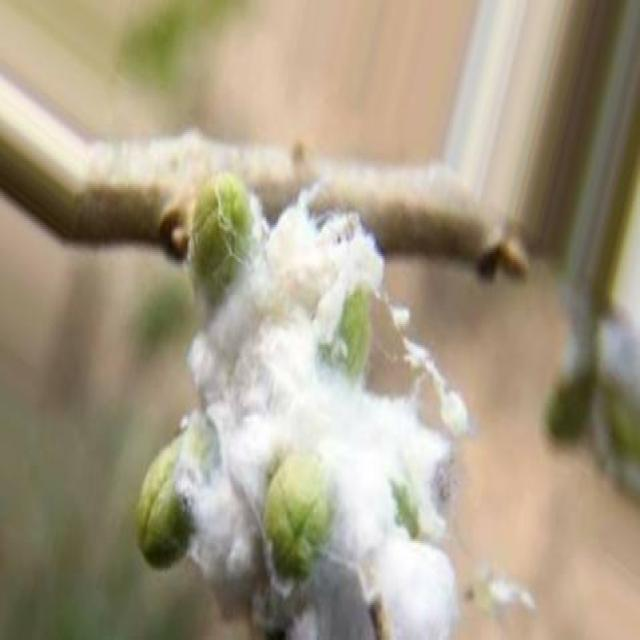Psyllid: (139, 180, 469, 638)
